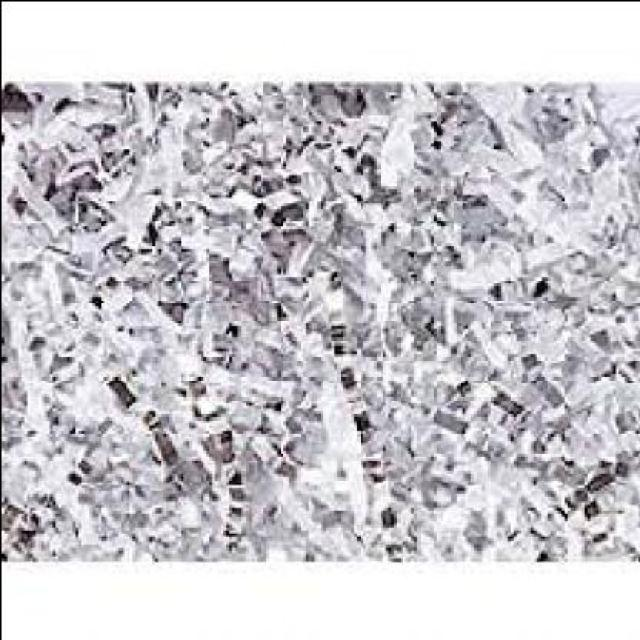PAPER: (3, 83, 639, 565)
